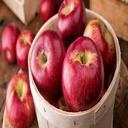apple: (15, 30, 36, 69)
